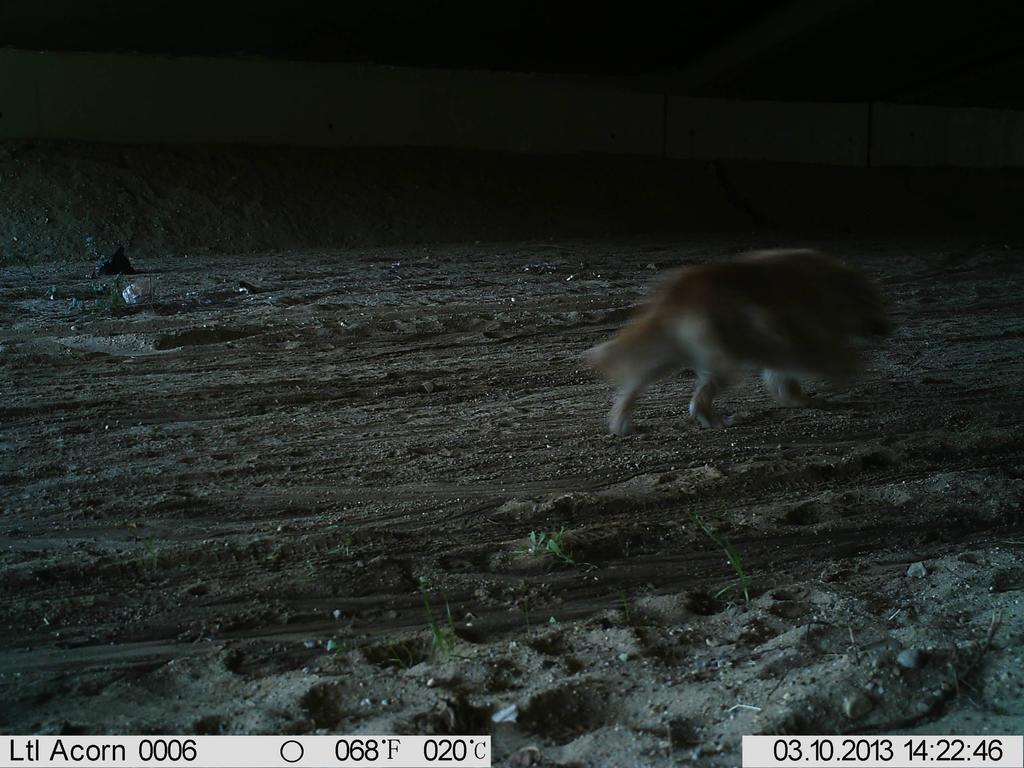dog: (575, 242, 905, 443)
